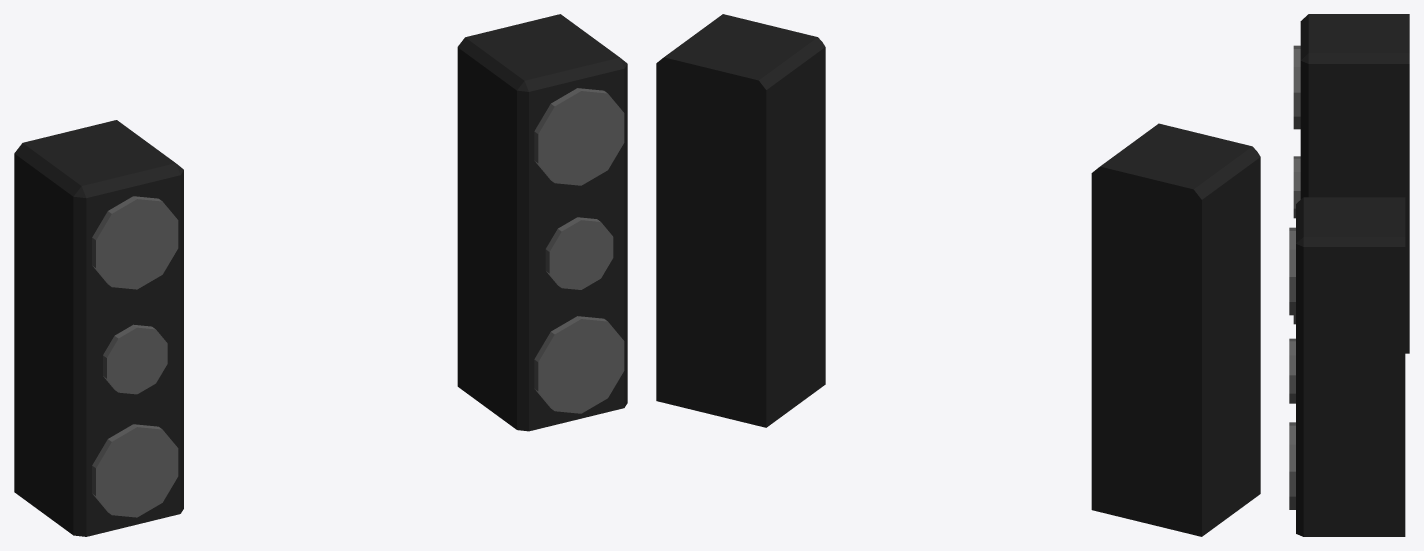
The model's file is Speaker.fbx.
3 renders of one model, left to right at view 1: azimuth 30°, elevation 25°; view 2: azimuth 150°, elevation 25°; view 3: azimuth 270°, elevation 25°, orthographic. The views are drawn at different scales.
Visible parts, largest first — view 1: Speaker-1, Speaker-2; view 2: Speaker-1, Speaker-2; view 3: Speaker-1, Speaker-2.
Boxes of the visible parts, x1,y1,x2,y2 form: Speaker-1: (457,14,627,431); Speaker-2: (14,120,183,536); Speaker-1: (656,14,825,427); Speaker-2: (1091,123,1260,536); Speaker-1: (1289,197,1405,536); Speaker-2: (1293,14,1409,353).
Bounding box in the file's own units: 2.49 × 1.5 × 0.5521.
